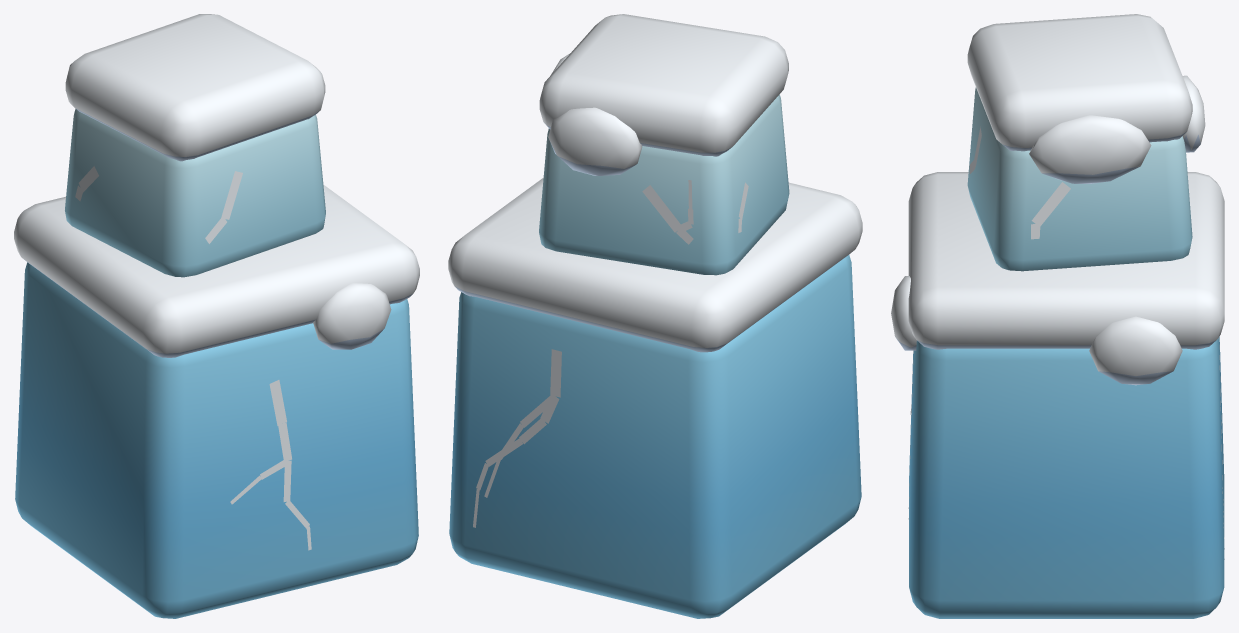
Rendered from GlacierBlockC.fbx.
The picture shows the model from 3 angles, left to right: view 1: azimuth 30°, elevation 25°; view 2: azimuth 150°, elevation 25°; view 3: azimuth 270°, elevation 25°; orthographic projection. The views are drawn at different scales.
Parts seen in each view (by area): view 1: GlacierBlockC; view 2: GlacierBlockC; view 3: GlacierBlockC.
Boxes of the visible parts, bbox=[...] form: GlacierBlockC: bbox=[14, 14, 419, 618]; GlacierBlockC: bbox=[448, 14, 862, 618]; GlacierBlockC: bbox=[891, 14, 1224, 618].
Bounding box in the file's own units: 1.53 × 2.47 × 1.5.
1 material, 1 textured.
